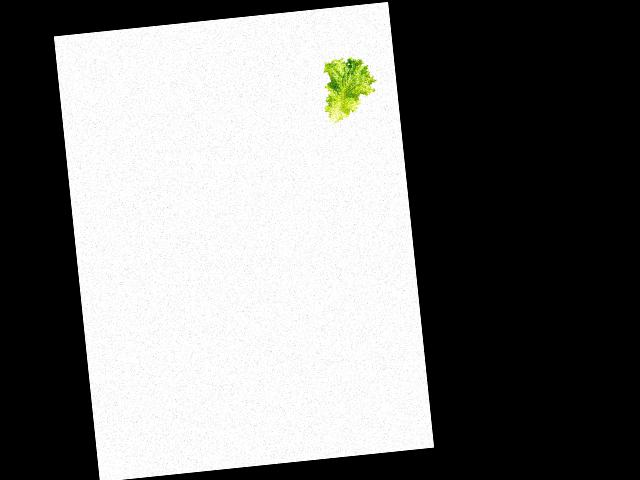lettuce: (322, 54, 379, 125)
